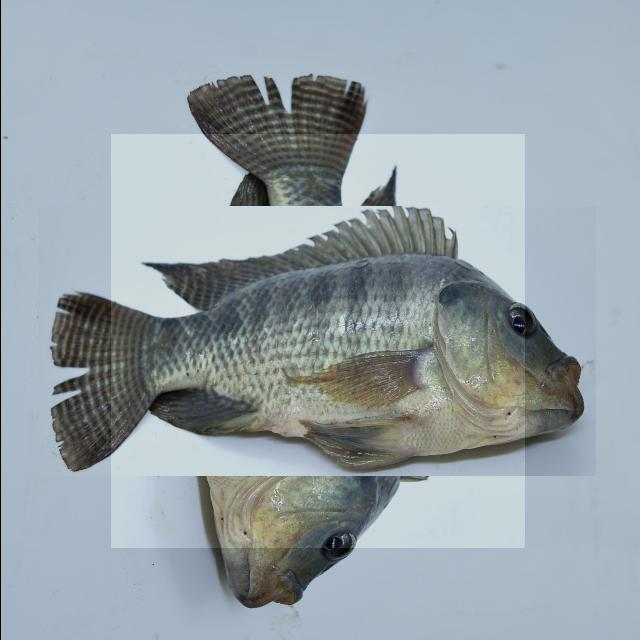Healthy Fish: (110, 134, 524, 548)
